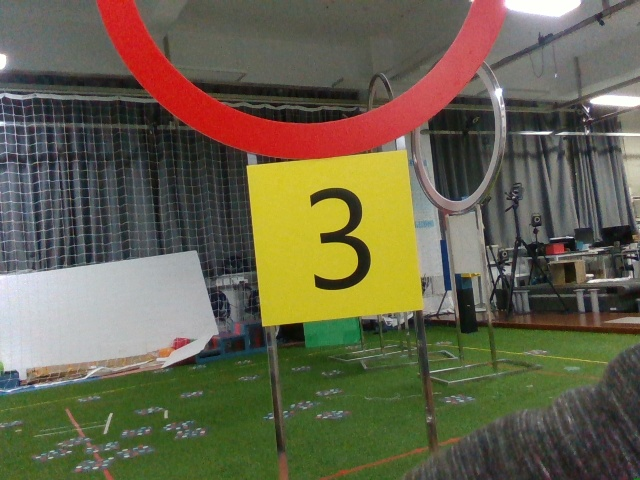target: (259, 160, 414, 314)
